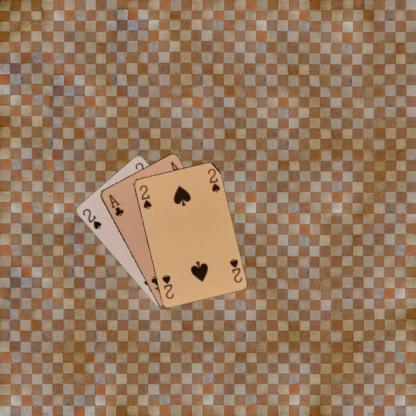2s: (80, 206, 103, 230), (136, 182, 152, 210), (227, 256, 243, 284)
Ac: (106, 192, 125, 217)
